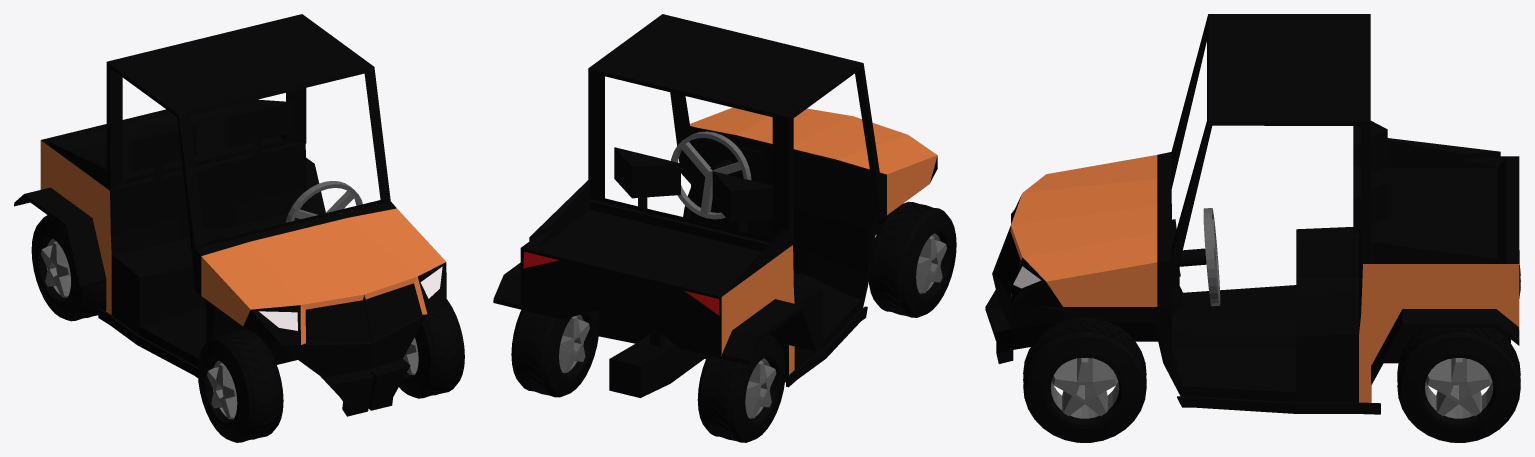
The model's file is earl_atv_final.fbx.
The picture shows the model from 3 angles, left to right: view 1: azimuth 30°, elevation 25°; view 2: azimuth 150°, elevation 25°; view 3: azimuth 270°, elevation 25°; orthographic projection. The views are drawn at different scales.
Visible parts, largest first — view 1: atv, FR Tyre, RR Tyre, FL Tyre, Steering Wheel; view 2: atv, FR Tyre, RR Tyre, RL Tyre, Steering Wheel, Dashboard; view 3: atv, FL Tyre, RL Tyre, Steering Wheel, Dashboard.
Boxes of the visible parts, <box> form: atv: <box>14,14,446,416</box>; FR Tyre: <box>197,330,283,442</box>; RR Tyre: <box>31,215,106,321</box>; FL Tyre: <box>399,299,464,398</box>; Steering Wheel: <box>285,181,362,222</box>; atv: <box>493,14,937,397</box>; FR Tyre: <box>869,201,956,317</box>; RR Tyre: <box>697,334,785,442</box>; RL Tyre: <box>511,310,599,397</box>; Steering Wheel: <box>671,131,751,219</box>; Dashboard: <box>696,138,761,182</box>; atv: <box>985,14,1519,414</box>; FL Tyre: <box>1023,317,1146,442</box>; RL Tyre: <box>1397,328,1520,442</box>; Steering Wheel: <box>1203,208,1220,306</box>; Dashboard: <box>1171,219,1206,288</box>.
Size of the model in its own units: 179 by 194 by 296.
